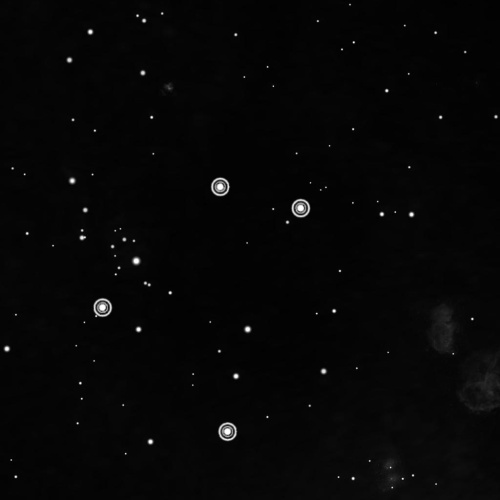coma_berenices: (87, 168, 322, 448)
